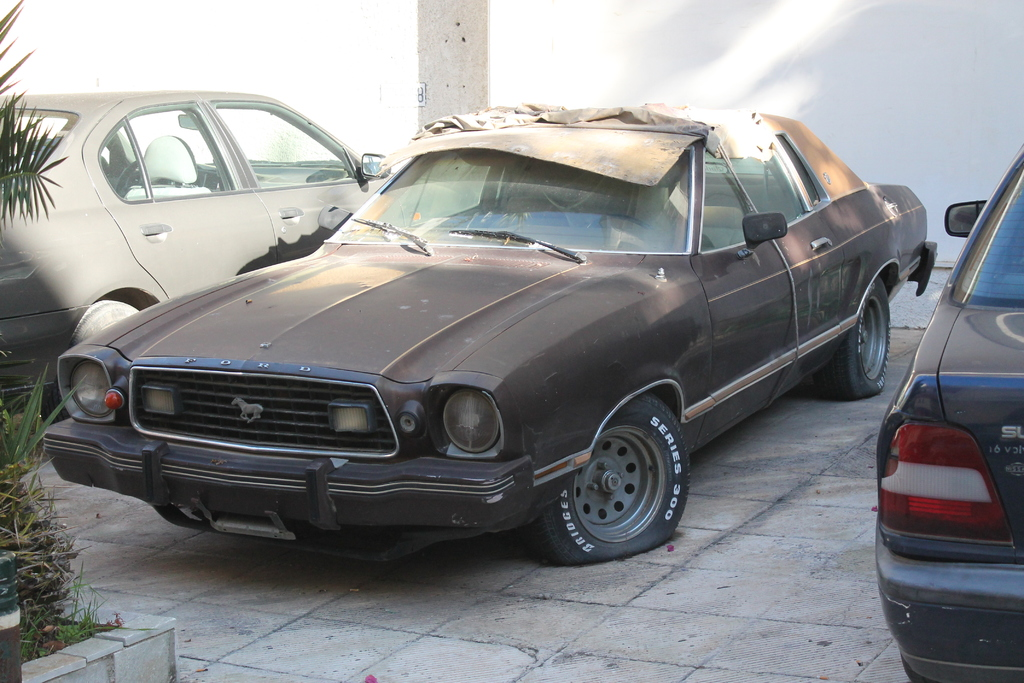Car: (41, 101, 936, 565), (0, 90, 461, 422), (876, 144, 1023, 682)
